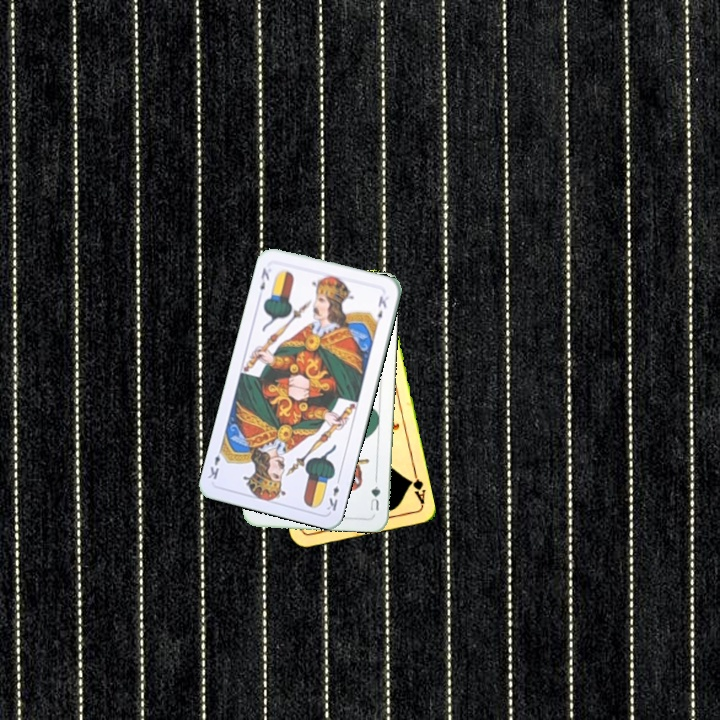EK: (323, 473, 342, 513), (256, 263, 272, 293)
GA: (405, 467, 428, 507)
GU: (366, 482, 383, 513)
